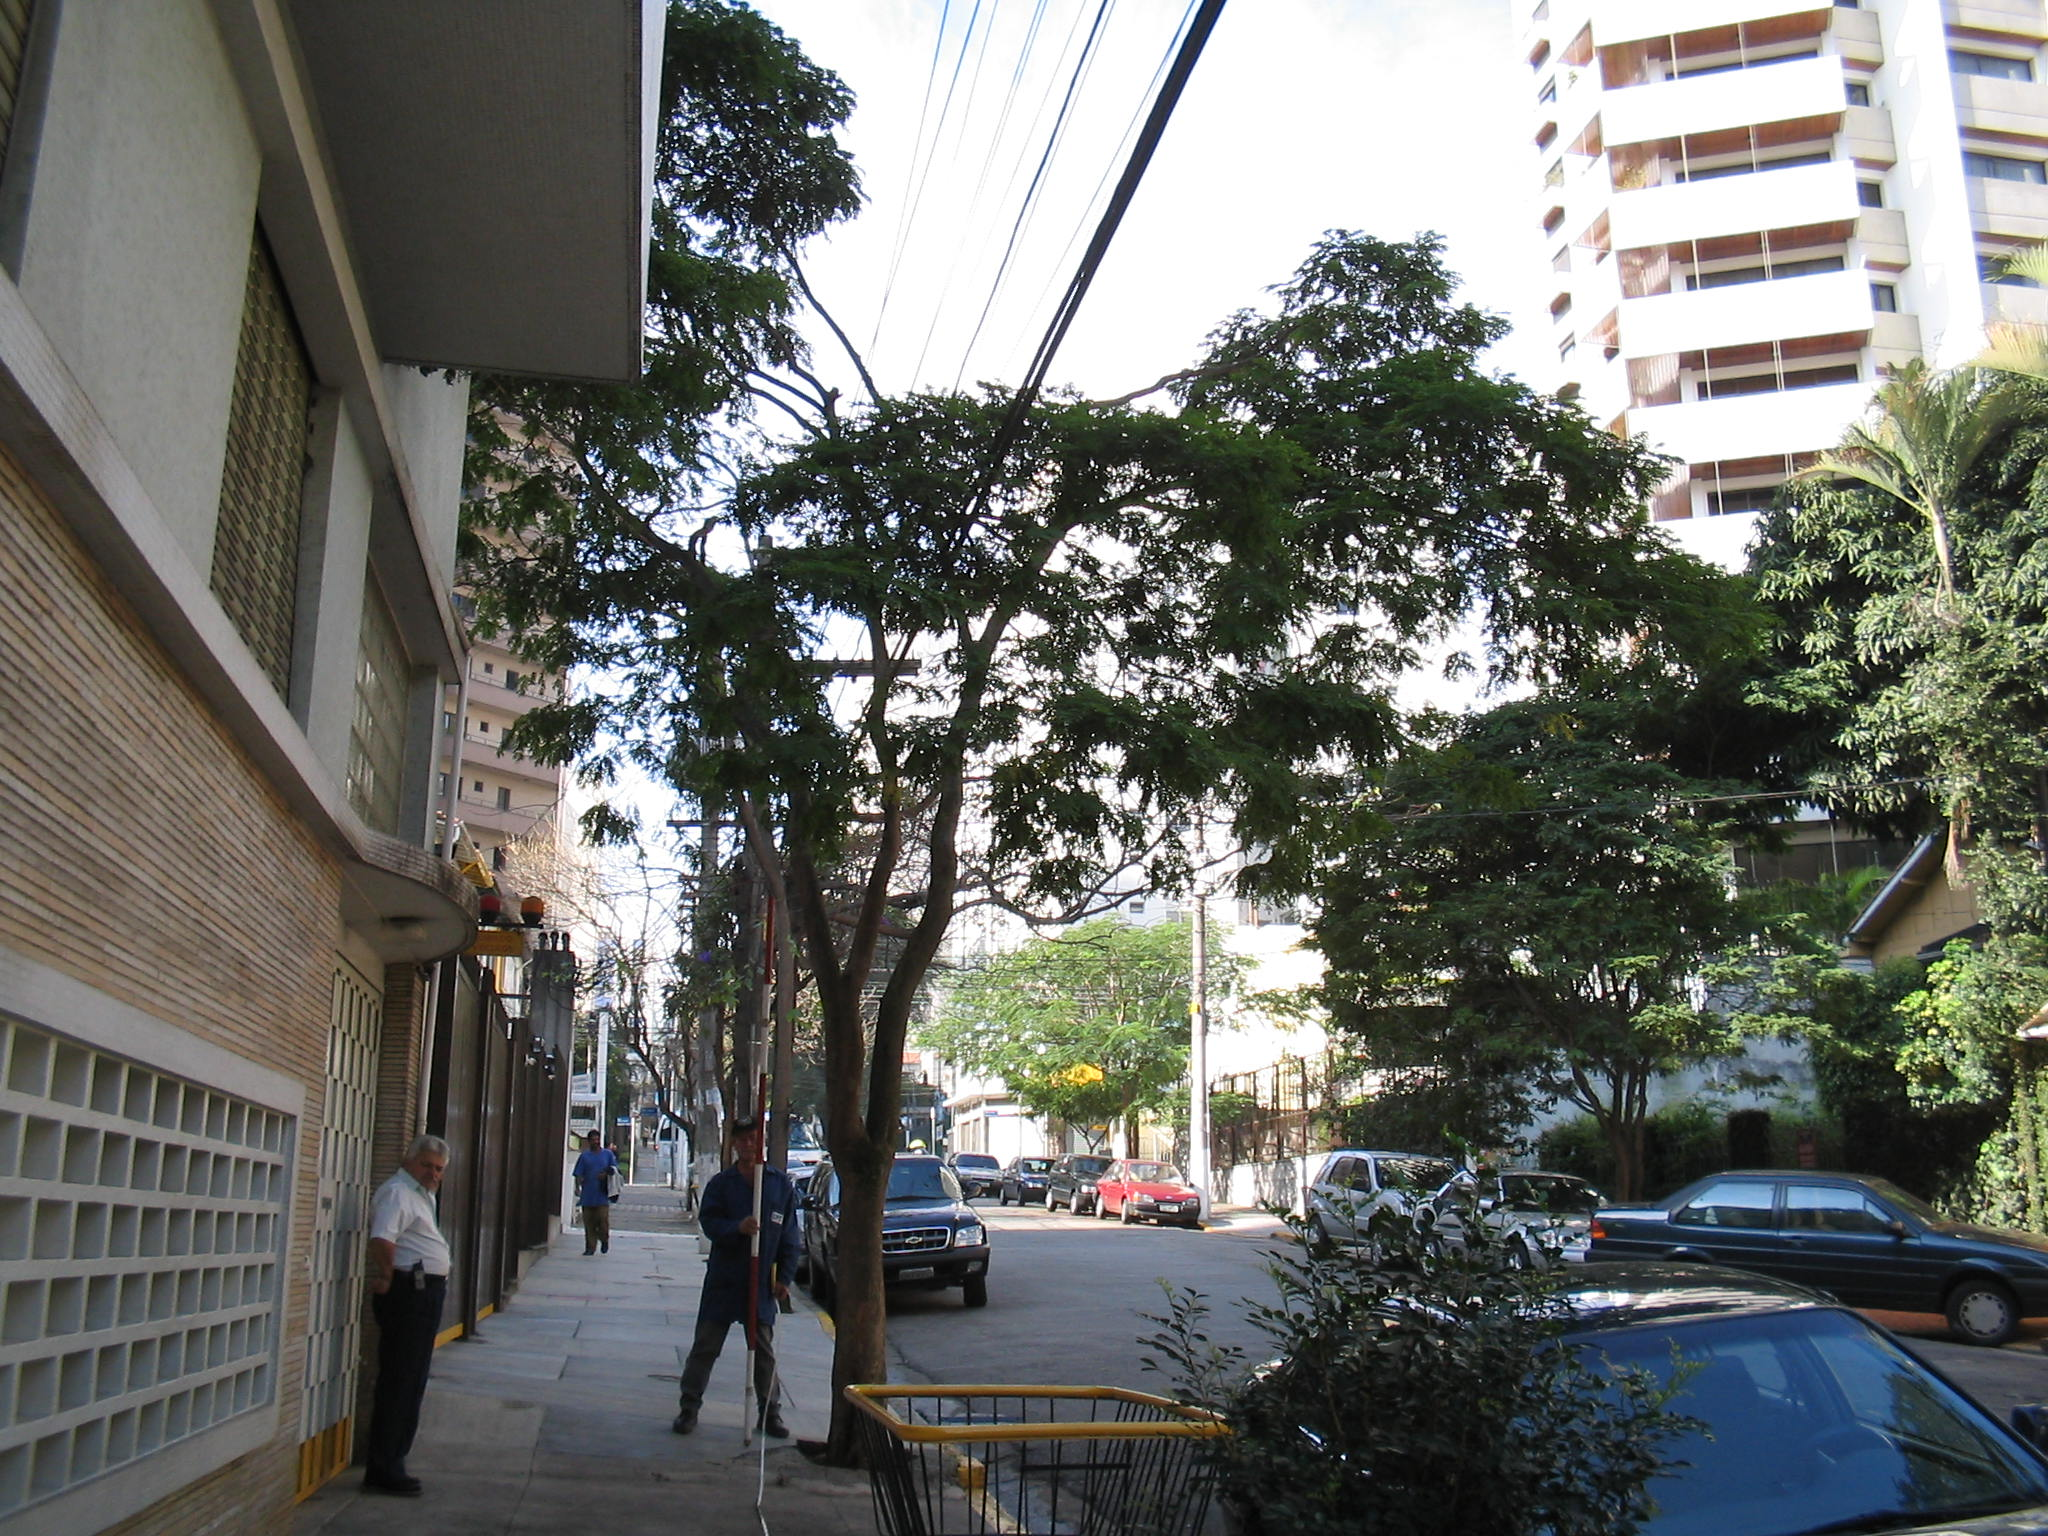crown: (503, 239, 1674, 926)
stem: (805, 1163, 932, 1455)
stick: (734, 897, 795, 1450)
tree: (497, 231, 1679, 1459), (1321, 695, 1787, 1205)
